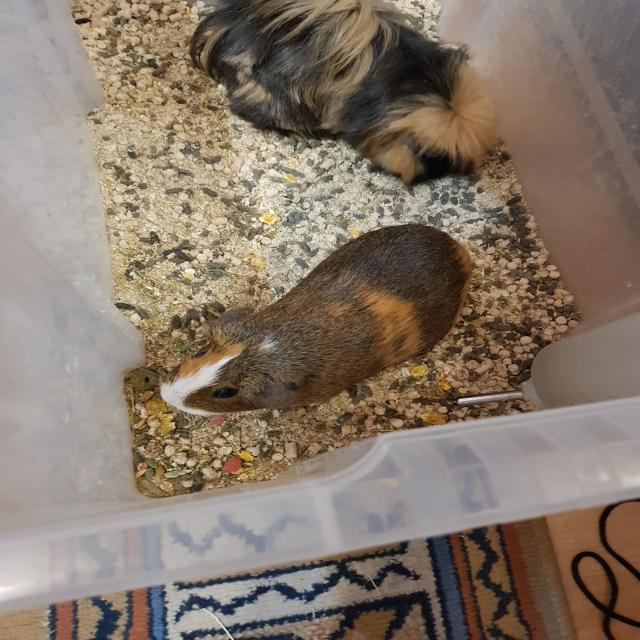guinea pig: (157, 222, 475, 415), (187, 2, 497, 185)
